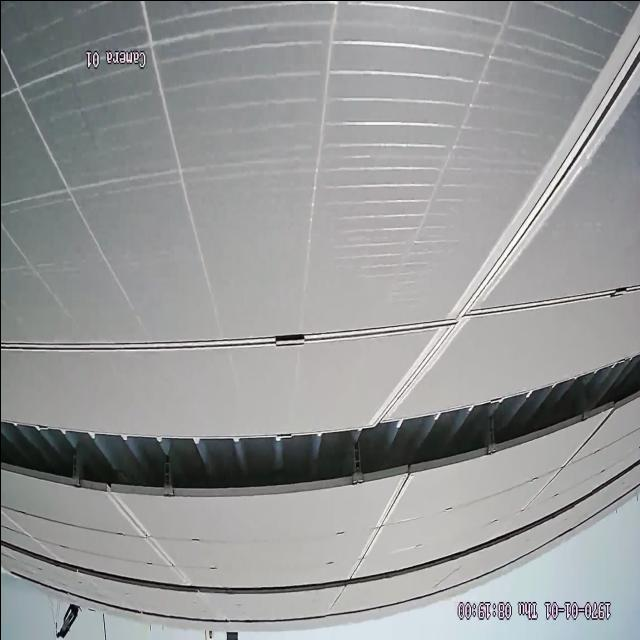interior panel: (17, 5, 637, 417), (517, 423, 608, 510), (110, 497, 186, 576), (347, 488, 404, 569)
outher panel: (0, 352, 640, 489)
